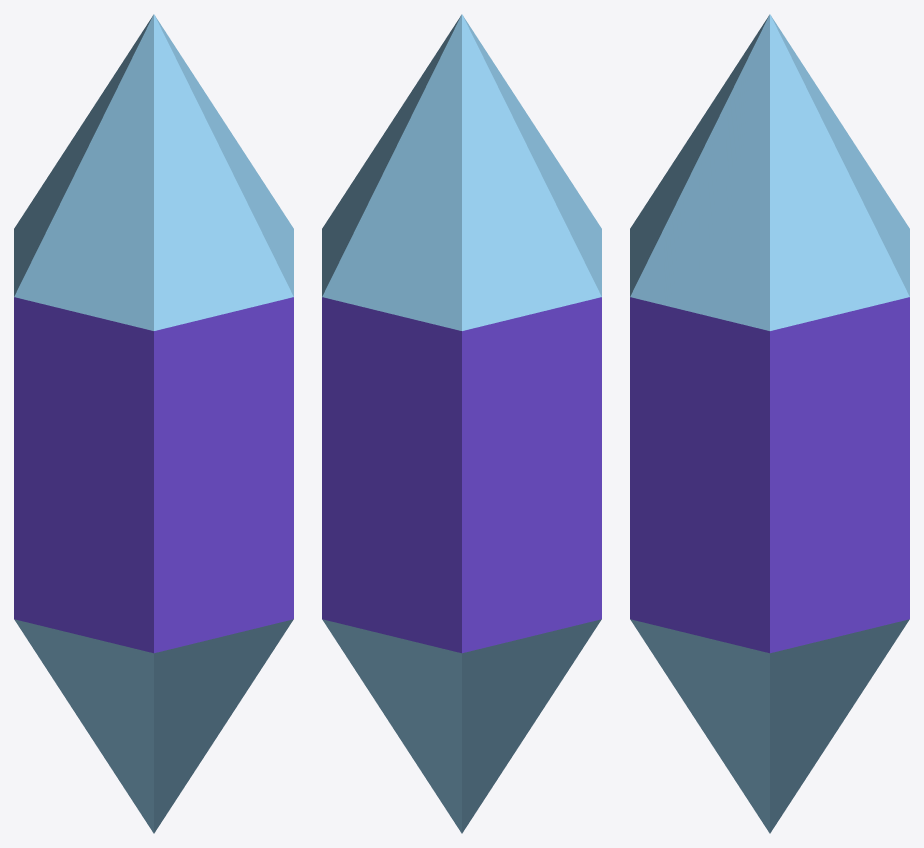
Rendered from LowPolyCrystal.obj.
3 renders of one model, left to right at view 1: azimuth 30°, elevation 25°; view 2: azimuth 150°, elevation 25°; view 3: azimuth 270°, elevation 25°, orthographic.
Size of the model in its own units: 1 by 2.8 by 0.866.
